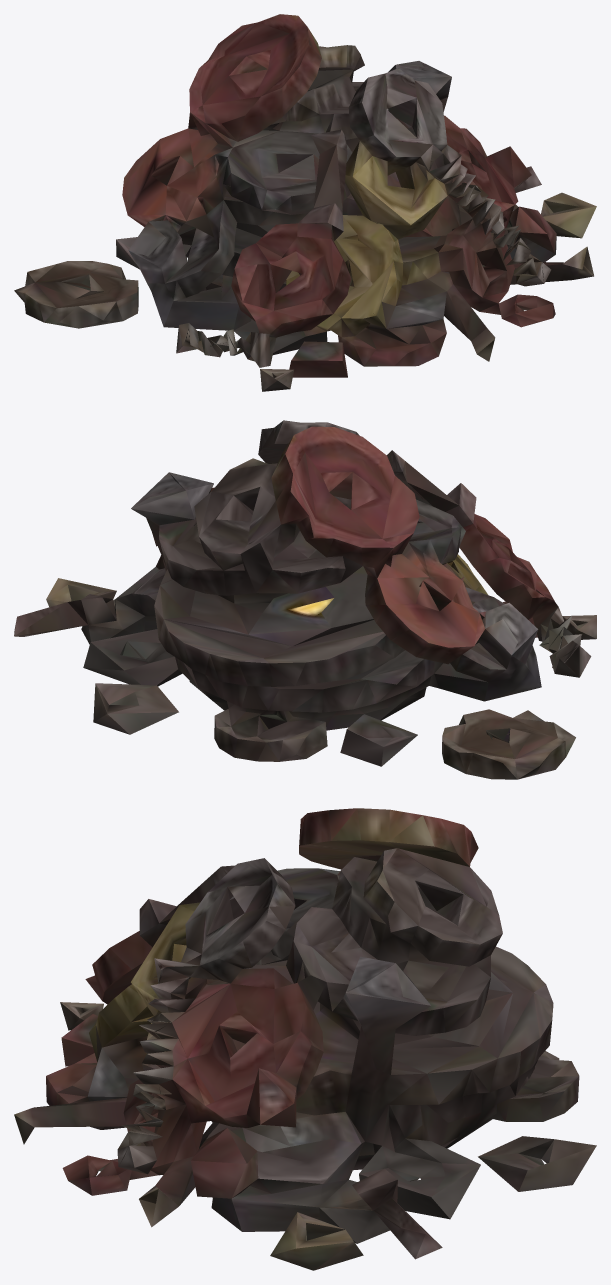
File: part_mech_shesterni_idle.glb
3 renders of one model, top to bottom at view 1: azimuth 30°, elevation 25°; view 2: azimuth 150°, elevation 25°; view 3: azimuth 270°, elevation 25°, orthographic. The views are drawn at different scales.
Visible parts, largest first — view 1: tripo_node_fe337bb3-bc59-4c32-8ddb-2ec754cecb7e; view 2: tripo_node_fe337bb3-bc59-4c32-8ddb-2ec754cecb7e; view 3: tripo_node_fe337bb3-bc59-4c32-8ddb-2ec754cecb7e.
Boxes of the visible parts, x1,y1,x2,y2 form: tripo_node_fe337bb3-bc59-4c32-8ddb-2ec754cecb7e: [14, 14, 596, 391]; tripo_node_fe337bb3-bc59-4c32-8ddb-2ec754cecb7e: [14, 420, 596, 779]; tripo_node_fe337bb3-bc59-4c32-8ddb-2ec754cecb7e: [14, 808, 596, 1270].
Size of the model in its own units: 0.3288 by 0.1503 by 0.257.
1 material, 1 textured.
